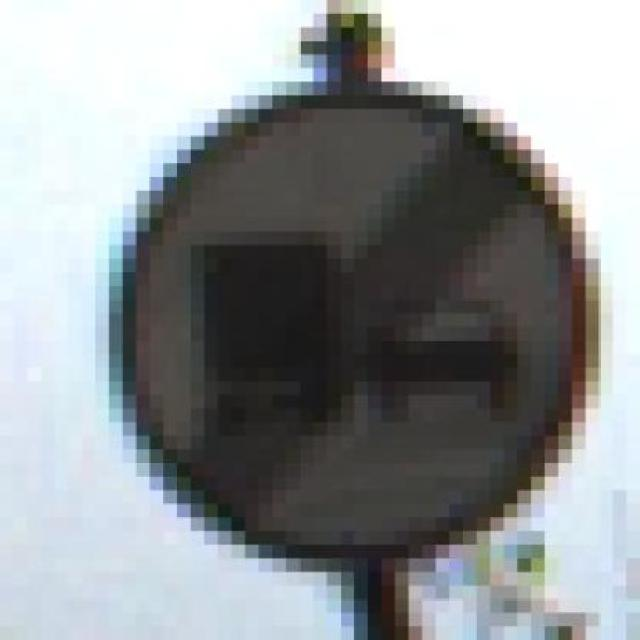Overtaking by trucks is prohibited: (55, 54, 613, 586)
